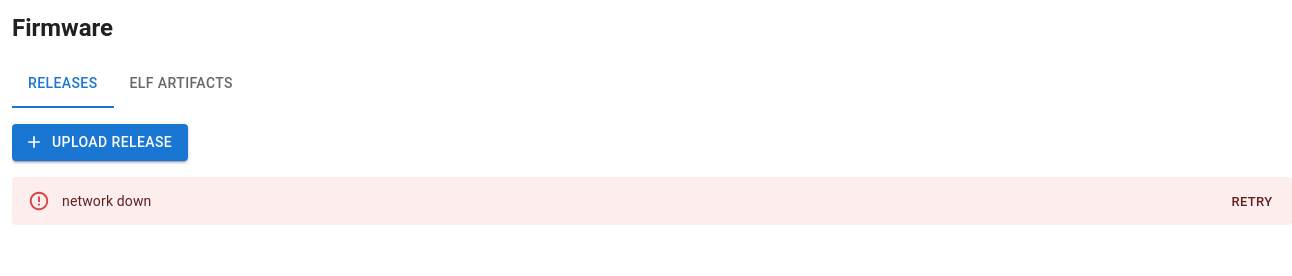
Test: FirmwarePage › a failed releases load shows the error with a retry action, not the empty state
Check: the text "network down" is shown, box [62,192,152,208]
Click the button "Retry".
click(1252, 202)  # box [1220,186,1284,217]
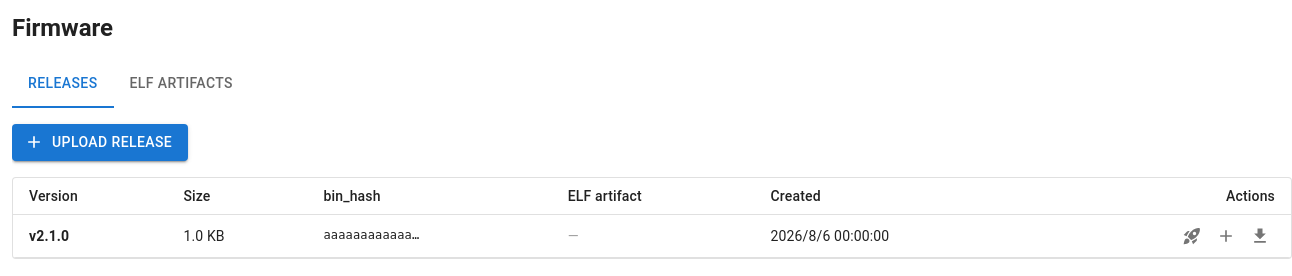
Check: the text "v2.1.0" is shown, box [13,214,167,257]
